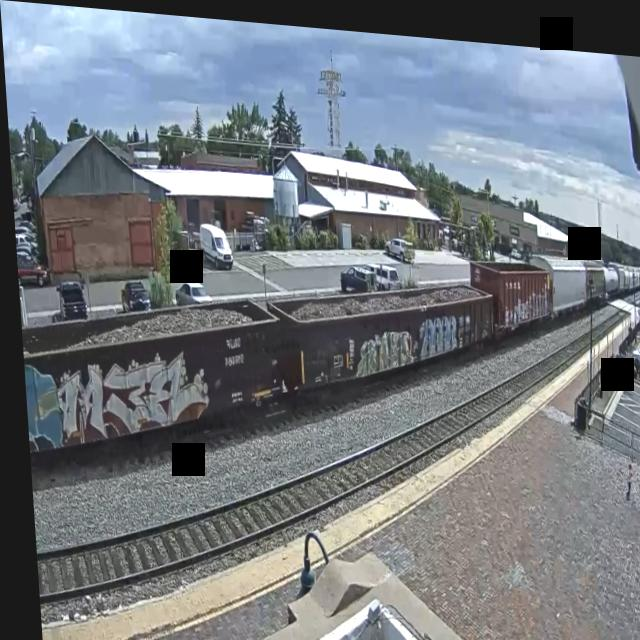gondola: (14, 267, 290, 502), (257, 250, 501, 417)
